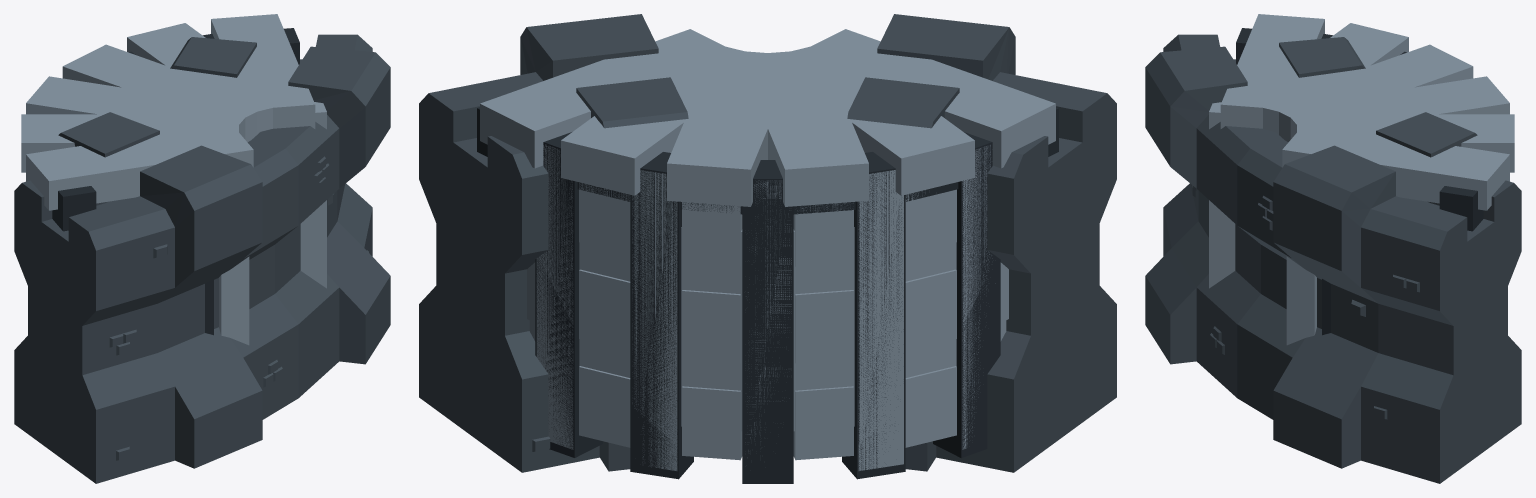
Rendered from SM_CRHex_WallCornerA_Tier3_Steel.fbx.
3 views of the same model, side by side, from view 1: azimuth 30°, elevation 25°; view 2: azimuth 150°, elevation 25°; view 3: azimuth 270°, elevation 25° (orthographic). The views are drawn at different scales.
Parts seen in each view (by area): view 1: SM_CRHex_WallCornerA_Tier3_Steel_Core, SM_CRHex_WallCornerA_Tier3_Steel_Detail, SM_CRHex_WallCornerA_Tier3_Steel_StyleRibs; view 2: SM_CRHex_WallCornerA_Tier3_Steel_Detail, SM_CRHex_WallCornerA_Tier3_Steel_Core, SM_CRHex_WallCornerA_Tier3_Steel_StyleRibs, SM_CRHex_WallCornerA_Tier3_Steel_StylePanels, SM_CRHex_WallCornerA_Tier3_Steel_Accent; view 3: SM_CRHex_WallCornerA_Tier3_Steel_Core, SM_CRHex_WallCornerA_Tier3_Steel_Detail, SM_CRHex_WallCornerA_Tier3_Steel_StyleRibs.
Boxes of the visible parts, box(x1,y1,x2,y2) form: SM_CRHex_WallCornerA_Tier3_Steel_Core: box(14, 34, 390, 483); SM_CRHex_WallCornerA_Tier3_Steel_Detail: box(21, 14, 326, 345); SM_CRHex_WallCornerA_Tier3_Steel_StyleRibs: box(52, 28, 299, 335); SM_CRHex_WallCornerA_Tier3_Steel_Detail: box(480, 29, 1055, 470); SM_CRHex_WallCornerA_Tier3_Steel_Core: box(419, 14, 1116, 472); SM_CRHex_WallCornerA_Tier3_Steel_StyleRibs: box(477, 107, 1058, 483); SM_CRHex_WallCornerA_Tier3_Steel_StylePanels: box(527, 183, 1008, 460); SM_CRHex_WallCornerA_Tier3_Steel_Accent: box(577, 182, 958, 214); SM_CRHex_WallCornerA_Tier3_Steel_Core: box(1145, 34, 1521, 483); SM_CRHex_WallCornerA_Tier3_Steel_Detail: box(1209, 14, 1514, 345); SM_CRHex_WallCornerA_Tier3_Steel_StyleRibs: box(1236, 28, 1483, 335).
Size of the model in its own units: 1.76 by 1.1 by 1.38.
